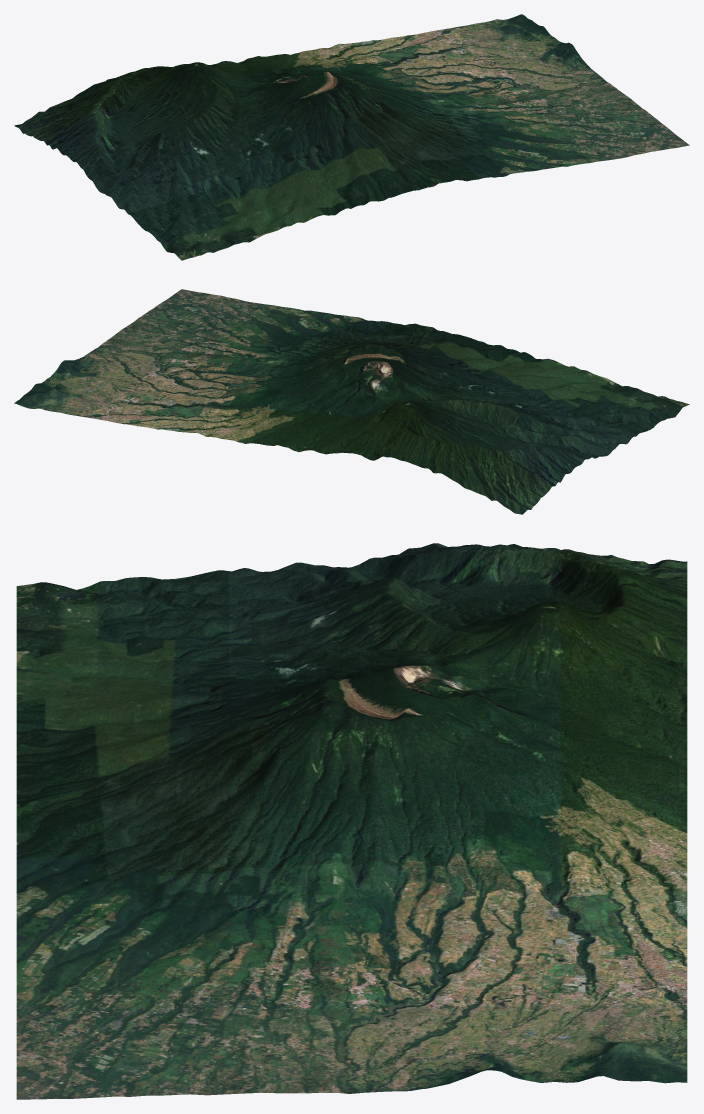
File: mount-gede-pangrango.glb
3 renders of one model, top to bottom at view 1: azimuth 30°, elevation 25°; view 2: azimuth 150°, elevation 25°; view 3: azimuth 270°, elevation 25°, orthographic. The views are drawn at different scales.
Parts seen in each view (by area): view 1: EXPORT_GOOGLE_SAT_WM; view 2: EXPORT_GOOGLE_SAT_WM; view 3: EXPORT_GOOGLE_SAT_WM.
Boxes of the visible parts, x1,y1,x2,y2 form: EXPORT_GOOGLE_SAT_WM: (14, 14, 689, 260); EXPORT_GOOGLE_SAT_WM: (14, 289, 689, 514); EXPORT_GOOGLE_SAT_WM: (16, 543, 687, 1099).
Size of the model in its own units: 1.97 by 0.263 by 1.13.
Materials: 1 (1 with a texture image).
